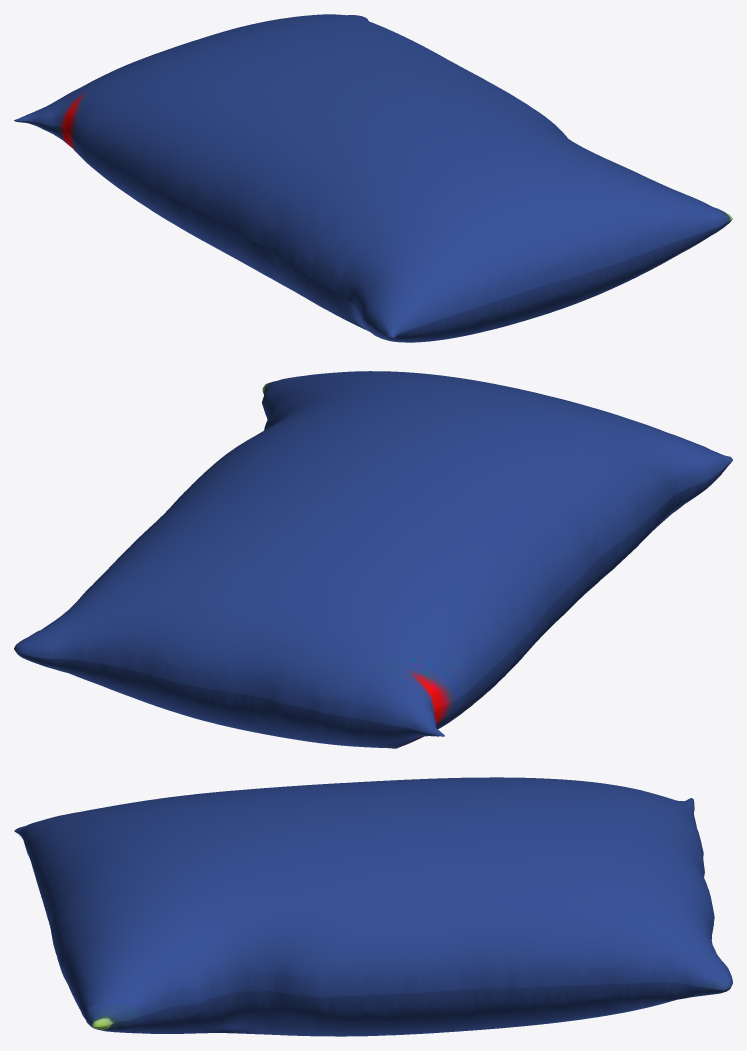
The picture shows the model from 3 angles, top to bottom: view 1: azimuth 30°, elevation 25°; view 2: azimuth 150°, elevation 25°; view 3: azimuth 270°, elevation 25°; orthographic projection. The views are drawn at different scales.
Size of the model in its own units: 0.7523 by 0.288 by 1.
